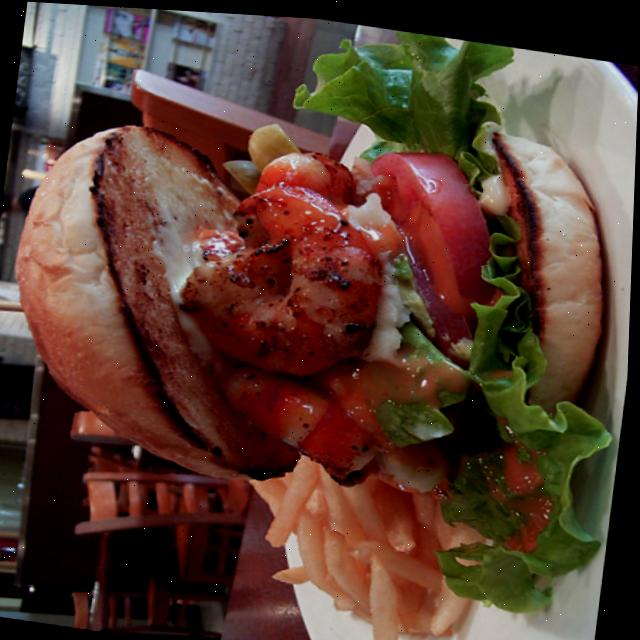汉堡快餐: (0, 47, 639, 530)
炸货点心: (202, 440, 498, 640)
